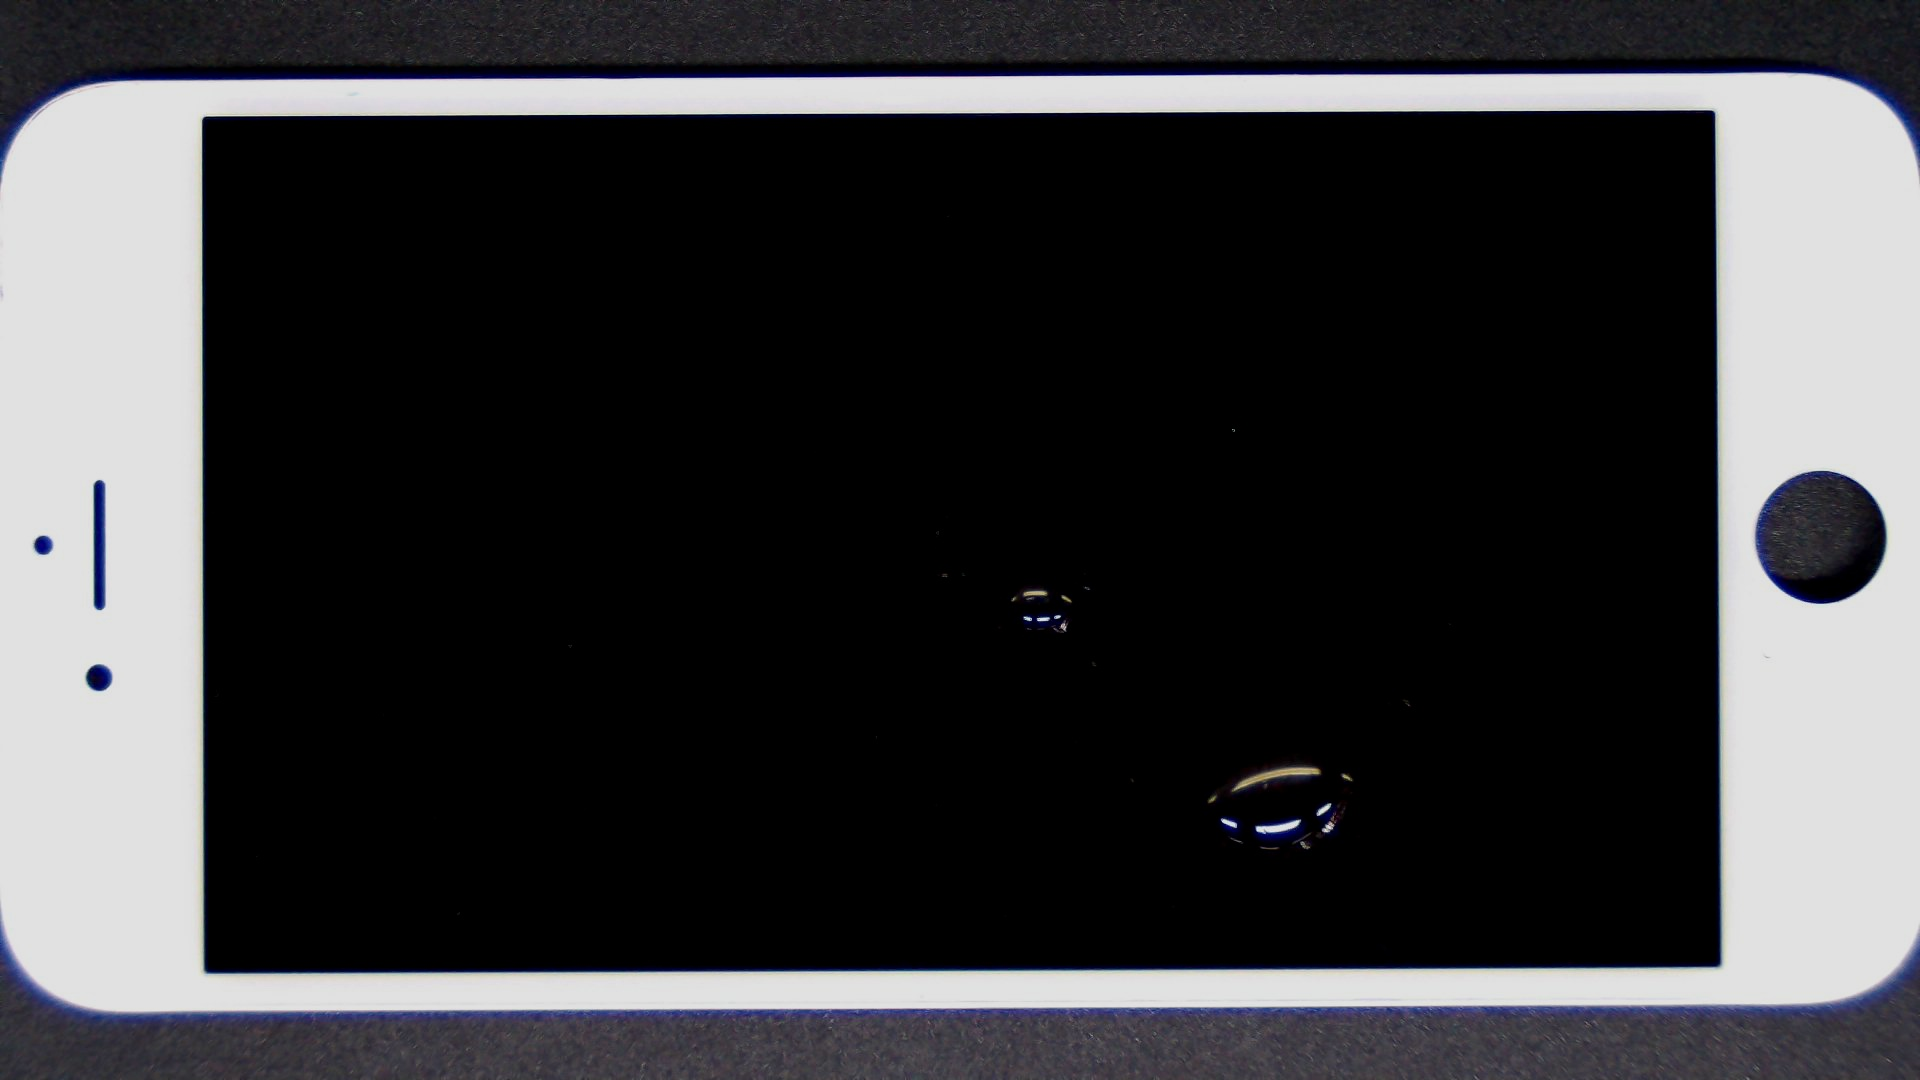oil: (645, 375, 1920, 1080), (518, 290, 1553, 872)
